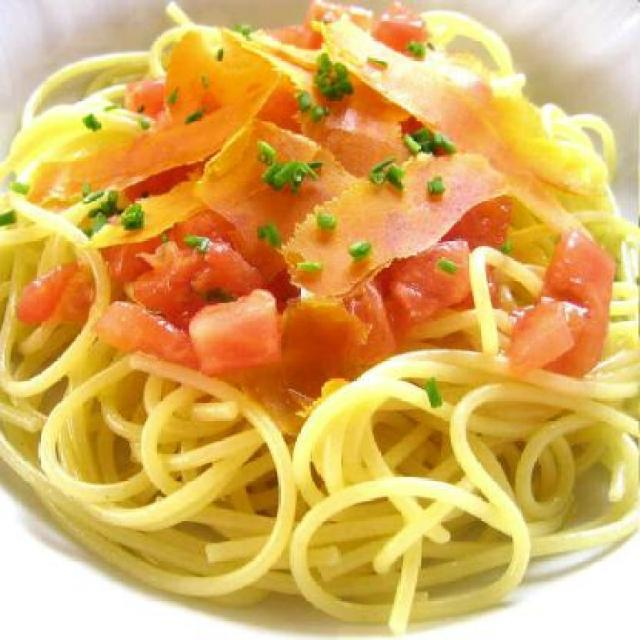Oil pasta: (16, 22, 639, 590)
